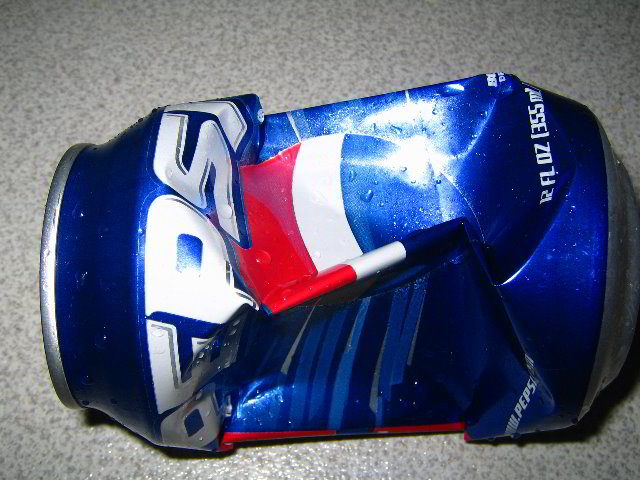can: (40, 69, 640, 459)
